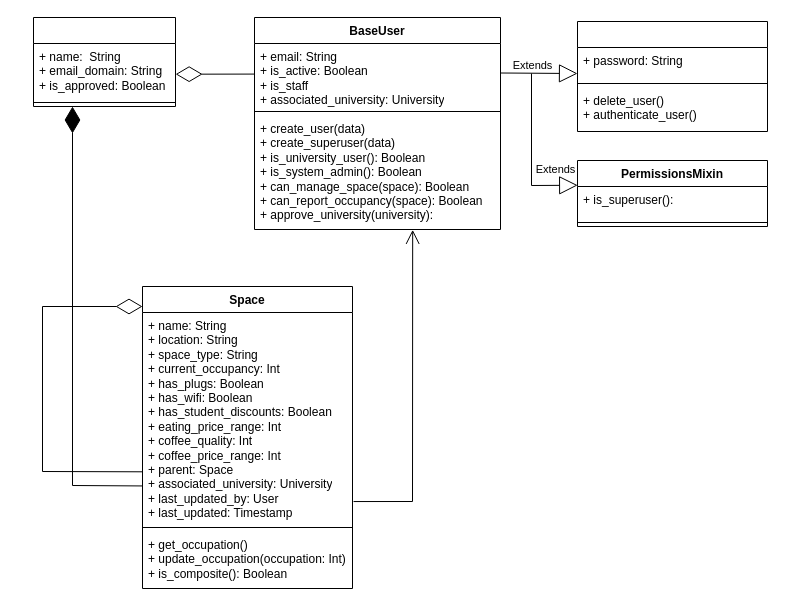
Image size: 785x609. Some labels were removed from this diagram. Here are the shapes that lost their labels. From the top down, the box of each, then its label:
(32, 16, 176, 106): Universtiy
(576, 20, 768, 132): AbstractUser
